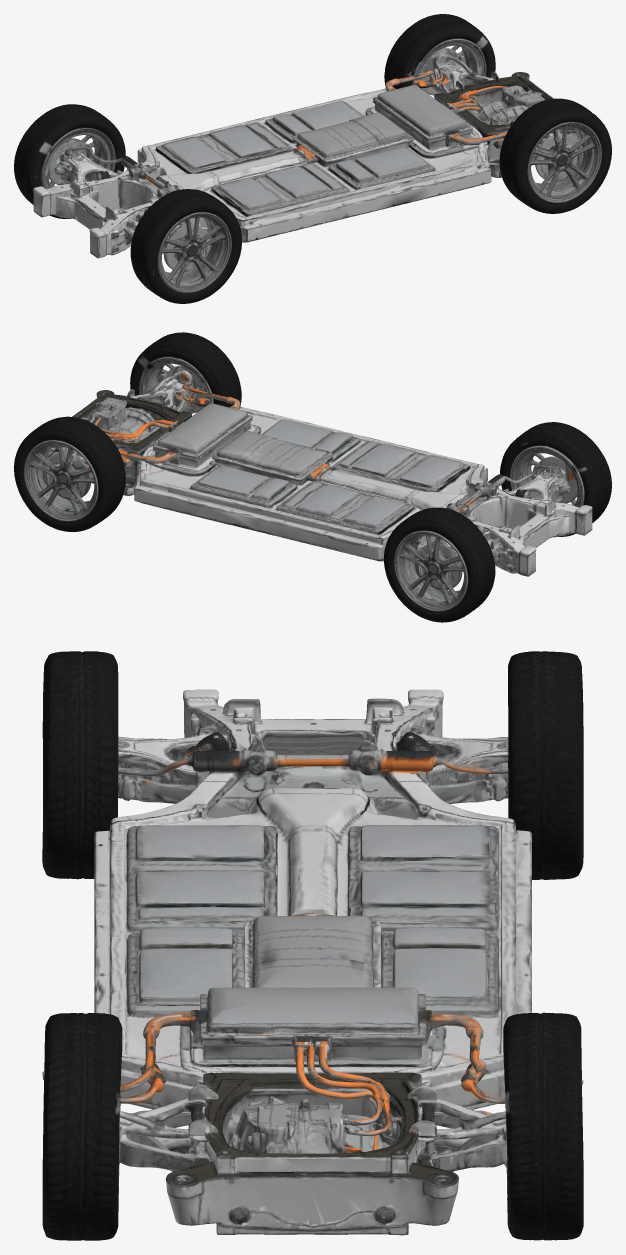
Rendered from sasis-hq.glb.
3 views of the same model, one above another, from view 1: azimuth 30°, elevation 25°; view 2: azimuth 150°, elevation 25°; view 3: azimuth 270°, elevation 25° (orthographic). The views are drawn at different scales.
Bounding box in the file's own units: 1.9 × 0.382 × 0.8988.
1 material, 1 textured.
